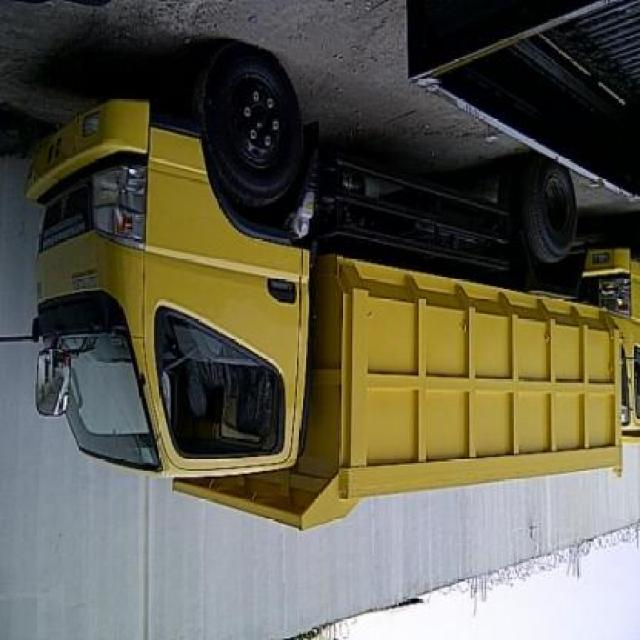truck: (25, 52, 625, 533)
